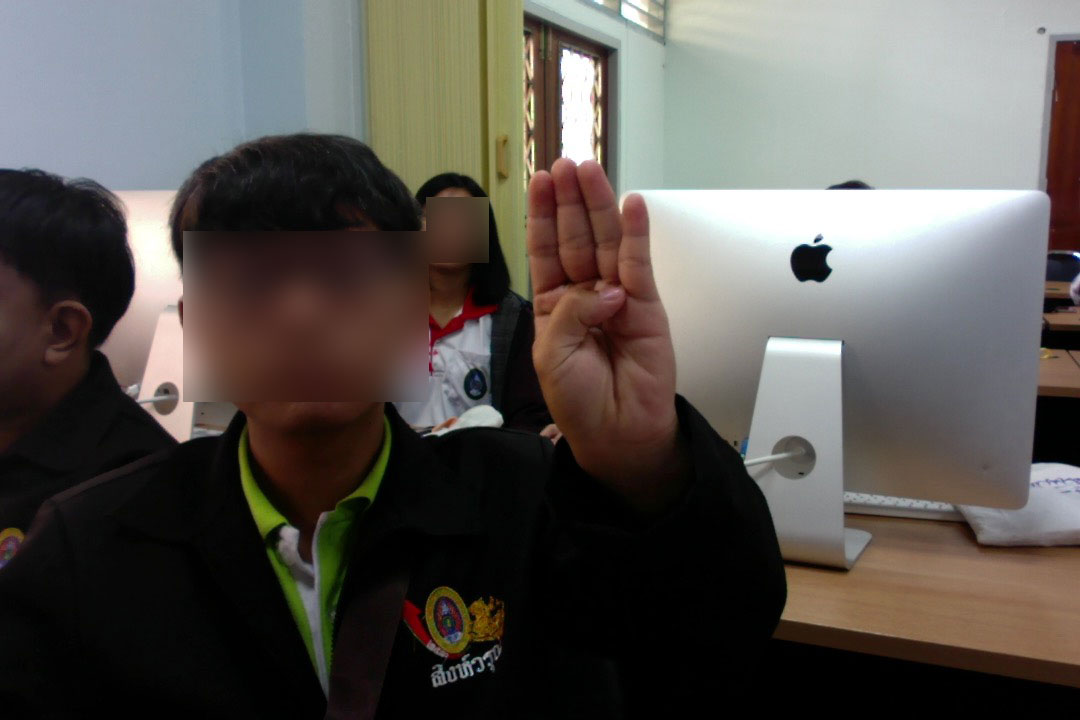bor: (519, 149, 688, 455)
